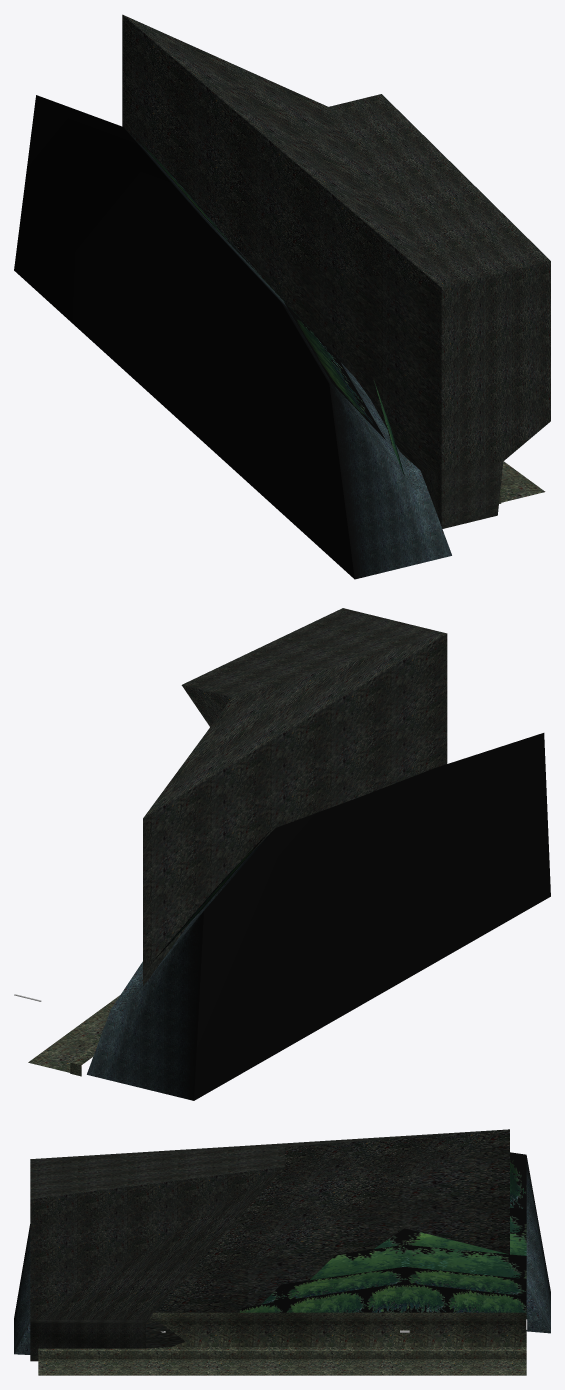
Rendered from OUSA02_R.glb.
The picture shows the model from 3 angles, top to bottom: view 1: azimuth 30°, elevation 25°; view 2: azimuth 150°, elevation 25°; view 3: azimuth 270°, elevation 25°; orthographic projection. The views are drawn at different scales.
Parts seen in each view (by area): view 1: Joint_1111, Model; view 2: Model, Joint_1111; view 3: Joint_1111, Model.
Boxes of the visible parts, x1=… form: Joint_1111: x1=122, y1=14, x2=550, y2=528; Model: x1=14, y1=95, x2=545, y2=579; Model: x1=28, y1=733, x2=550, y2=1100; Joint_1111: x1=143, y1=608, x2=447, y2=985; Joint_1111: x1=30, y1=1129, x2=509, y2=1361; Model: x1=14, y1=1152, x2=550, y2=1375.
Size of the model in its own units: 40.92 by 51.46 by 110.
7 materials, 4 textured.
